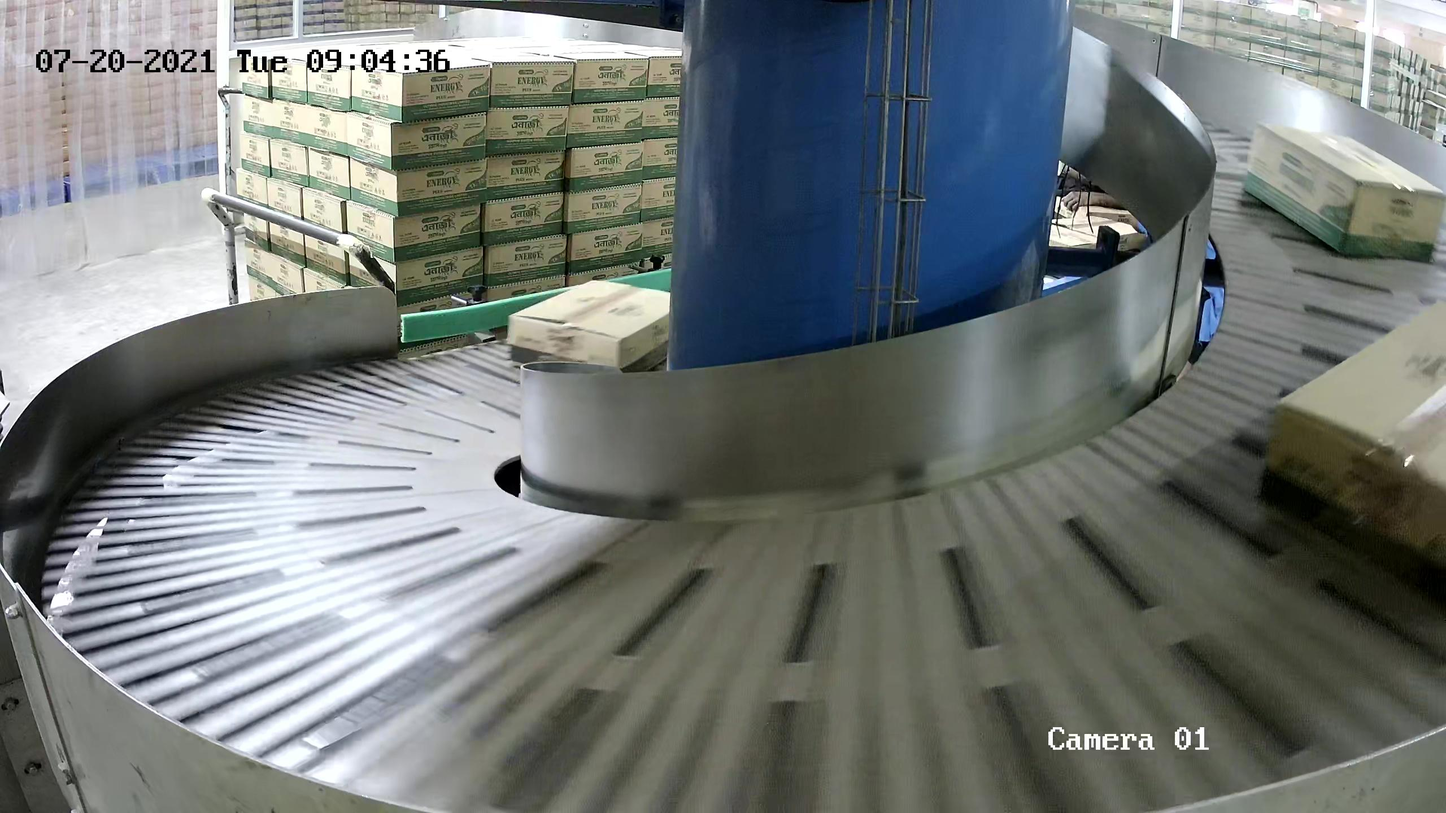Box: (1256, 281, 1446, 624), (1238, 119, 1446, 262), (506, 279, 700, 394)
